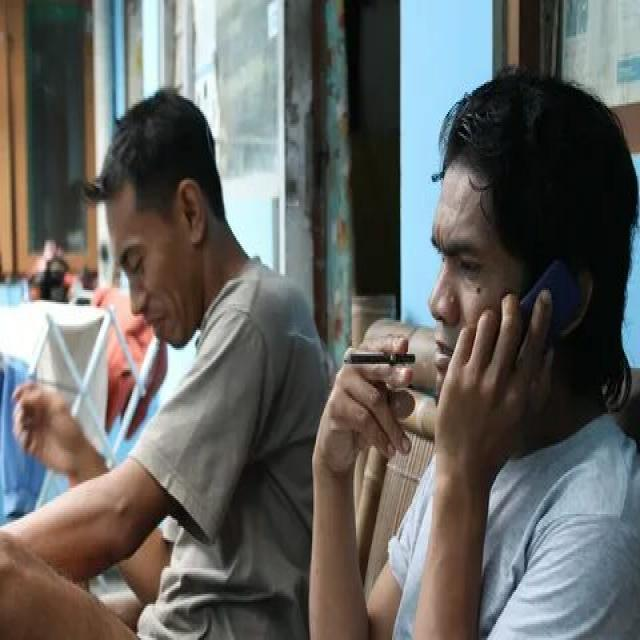smoke: (341, 348, 420, 370)
